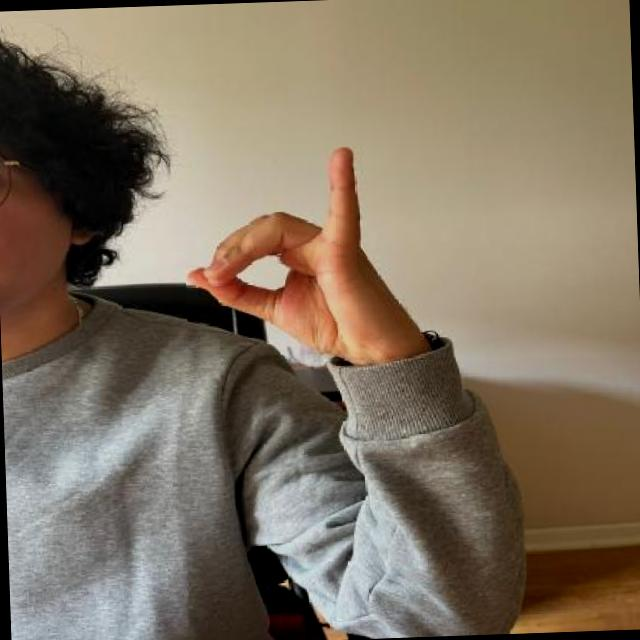D: (181, 142, 403, 358)
